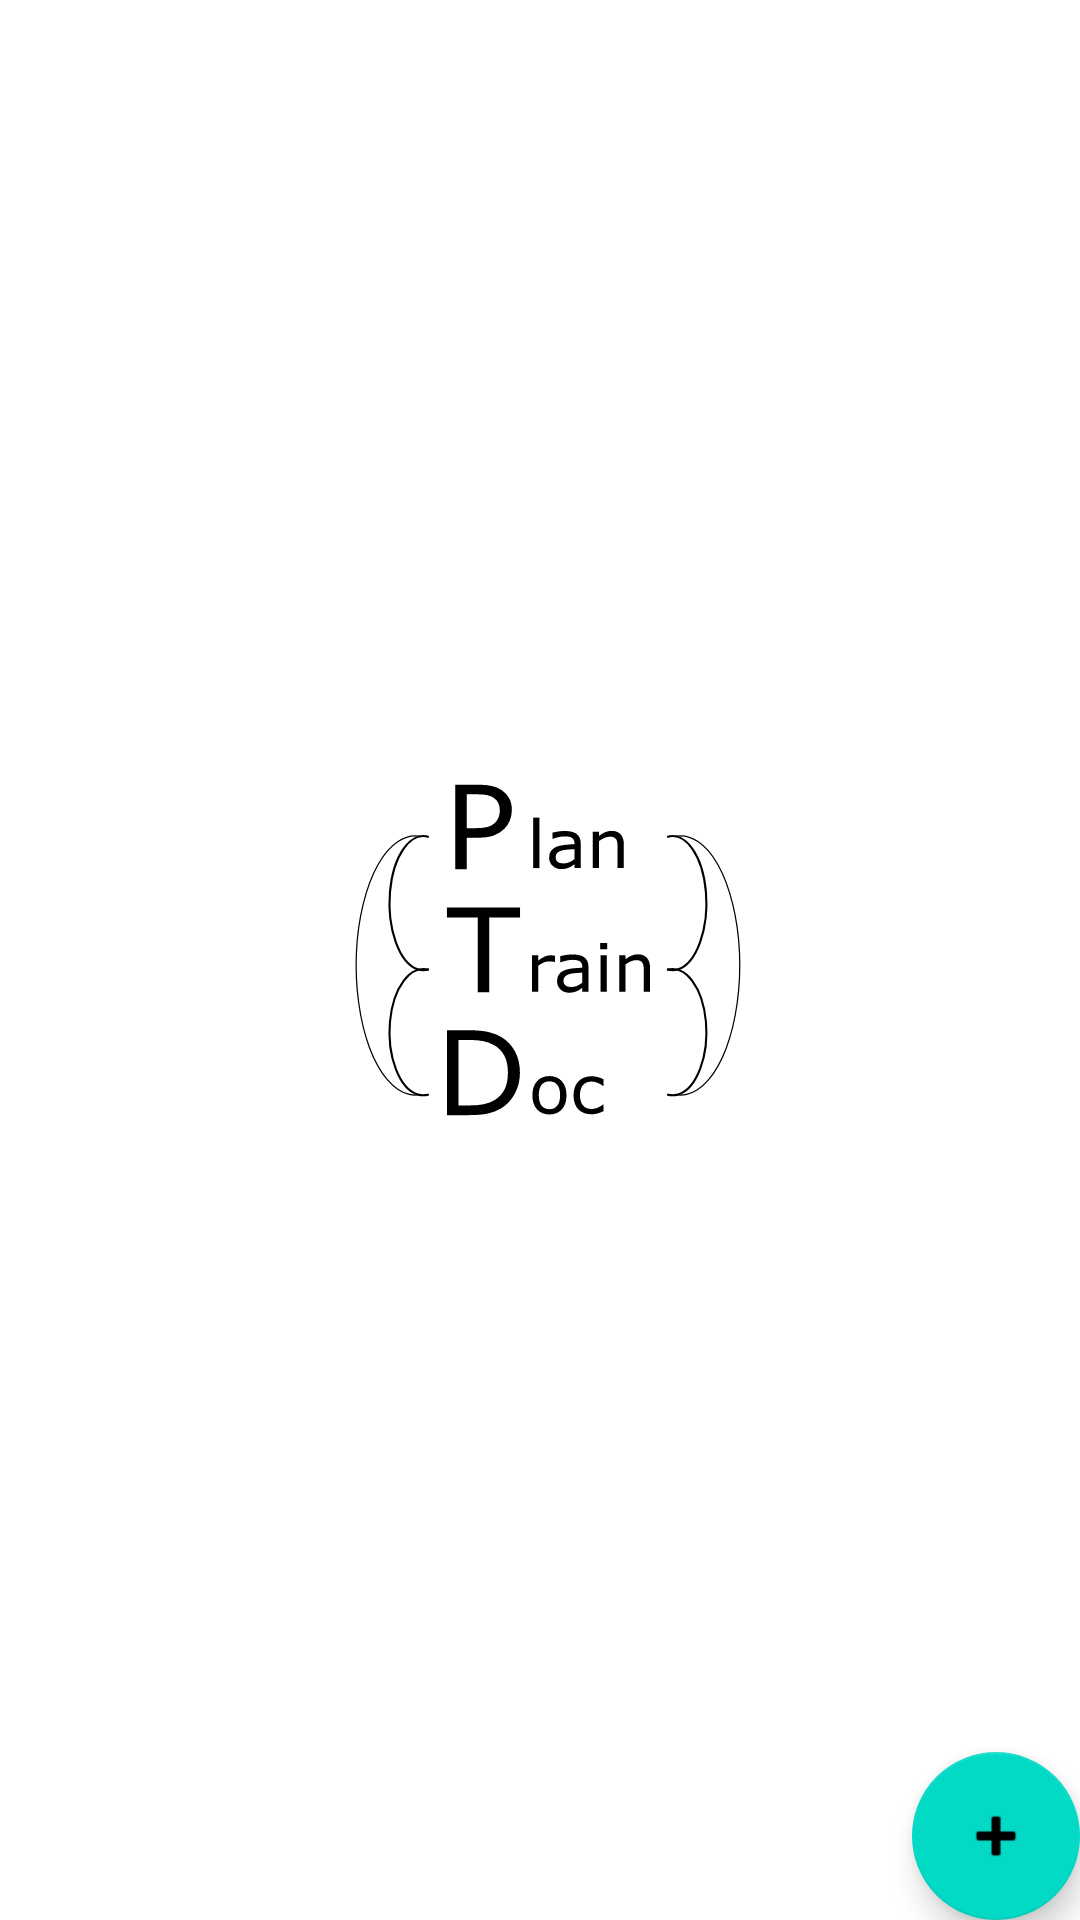

Named icons in this screenshot (1080*1920) and their centers, (x=x, y=y):
Add new goal: (x=996, y=1836)
